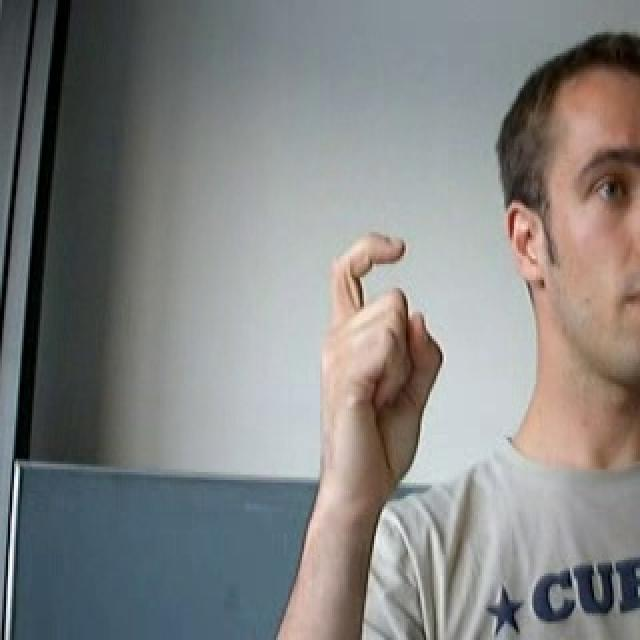X: (291, 201, 472, 515)
